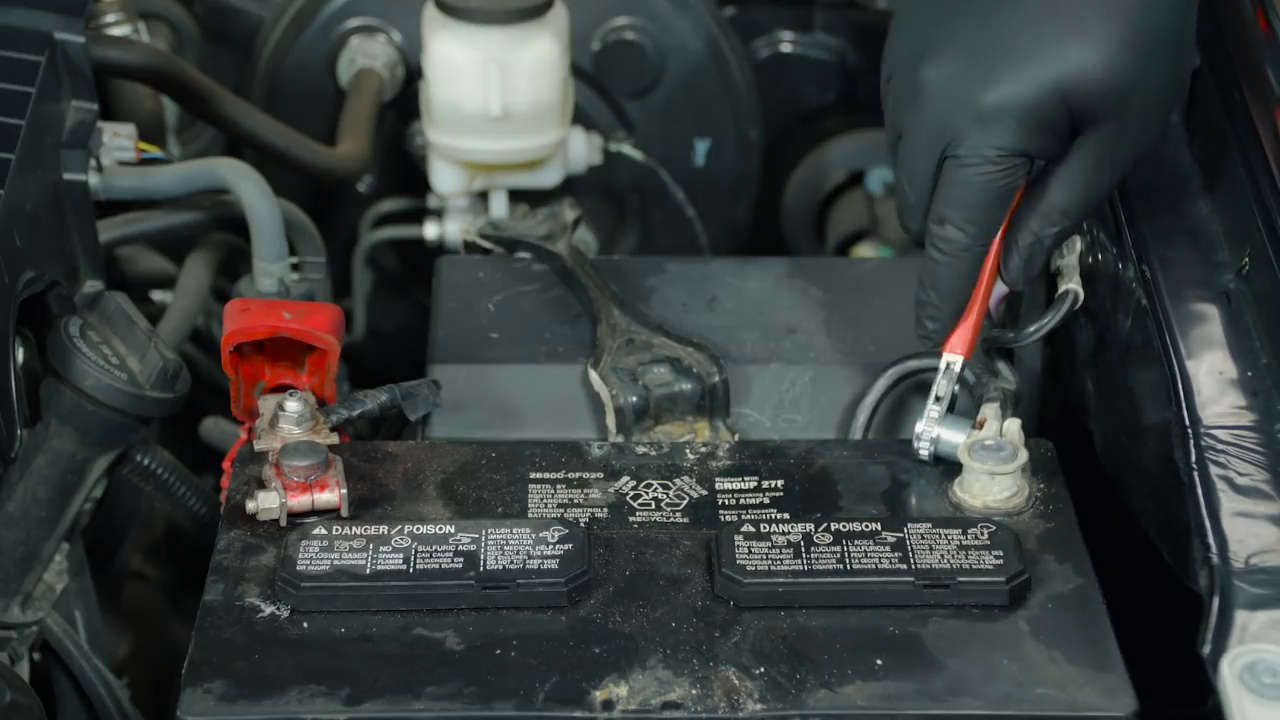battery: (220, 363, 1143, 720)
neg_touched: (888, 132, 1084, 514)
pos_connected: (204, 305, 365, 535)
